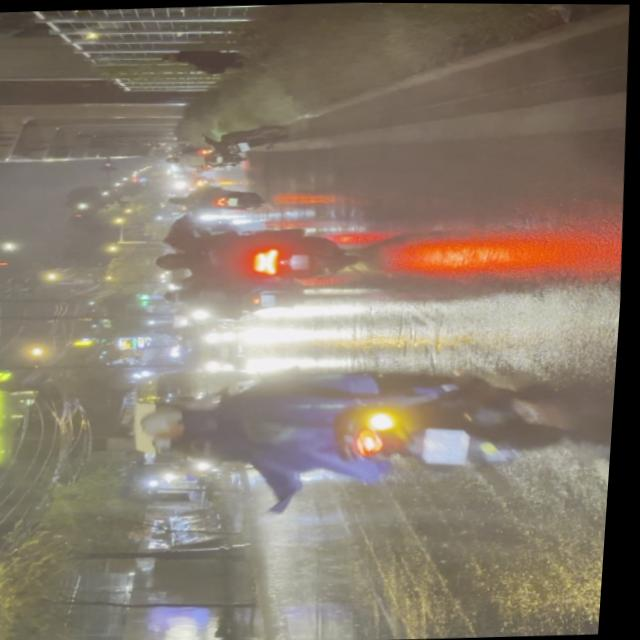helmet: (141, 400, 222, 441)
licenseplate: (124, 351, 622, 506)
nohelmet: (427, 426, 475, 465)
